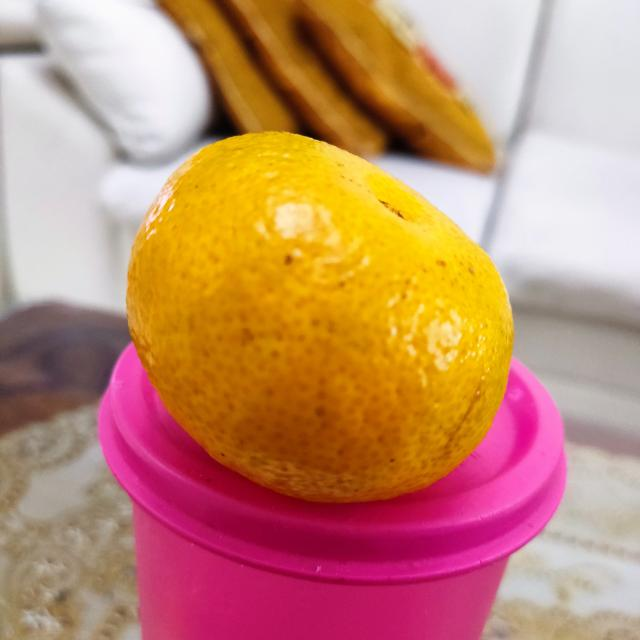orange: (120, 130, 512, 504)
